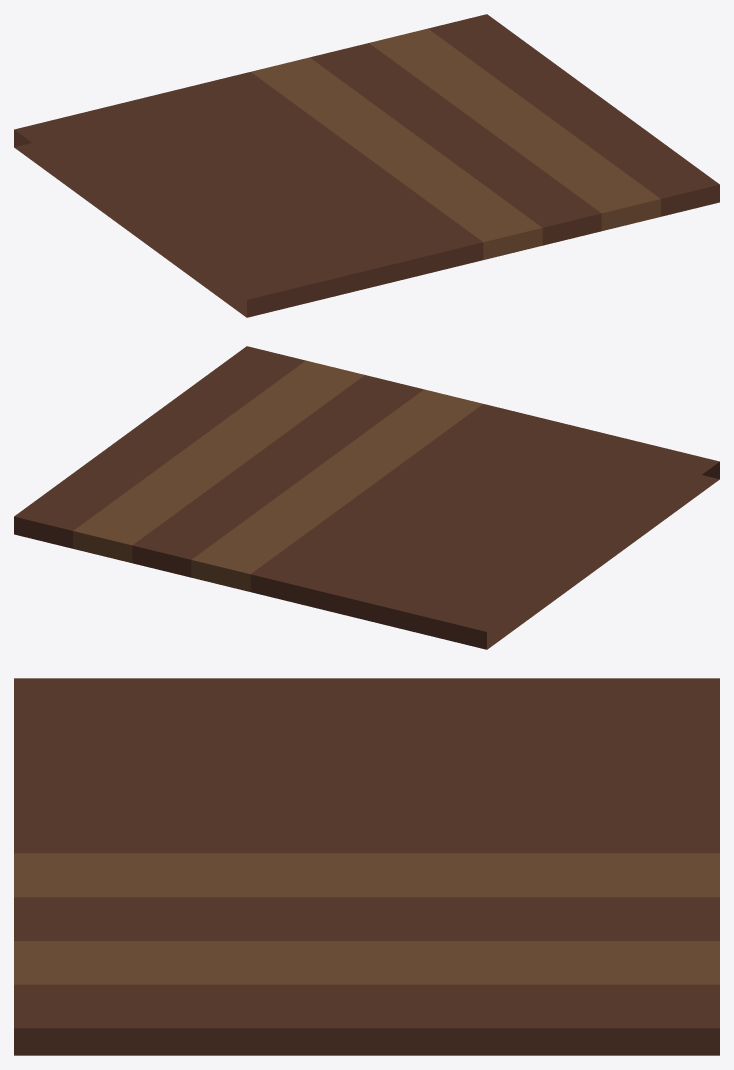
The model's file is FloorPack1.fbx.
3 renders of one model, top to bottom at view 1: azimuth 30°, elevation 25°; view 2: azimuth 150°, elevation 25°; view 3: azimuth 270°, elevation 25°, orthographic. The views are drawn at different scales.
Visible parts, largest first — view 1: TrapsFloorSafe_1, TrapsFloorBase_1, TrapsFloor_1; view 2: TrapsFloorSafe_1, TrapsFloorBase_1, TrapsFloor_1; view 3: TrapsFloorSafe_1, TrapsFloor_1, TrapsFloorBase_1.
Boxes of the visible parts, x1=… form: TrapsFloorSafe_1: x1=251, y1=14, x2=719, y2=259; TrapsFloorBase_1: x1=14, y1=72, x2=483, y2=317; TrapsFloor_1: x1=76, y1=98, x2=421, y2=273; TrapsFloorSafe_1: x1=14, y1=346, x2=482, y2=591; TrapsFloorBase_1: x1=250, y1=404, x2=719, y2=649; TrapsFloor_1: x1=312, y1=430, x2=657, y2=605; TrapsFloorSafe_1: x1=14, y1=853, x2=719, y2=1055; TrapsFloor_1: x1=86, y1=706, x2=647, y2=825; TrapsFloorBase_1: x1=14, y1=678, x2=719, y2=853.
Bounding box in the file's own units: 6.45 × 0.233 × 5.5.
